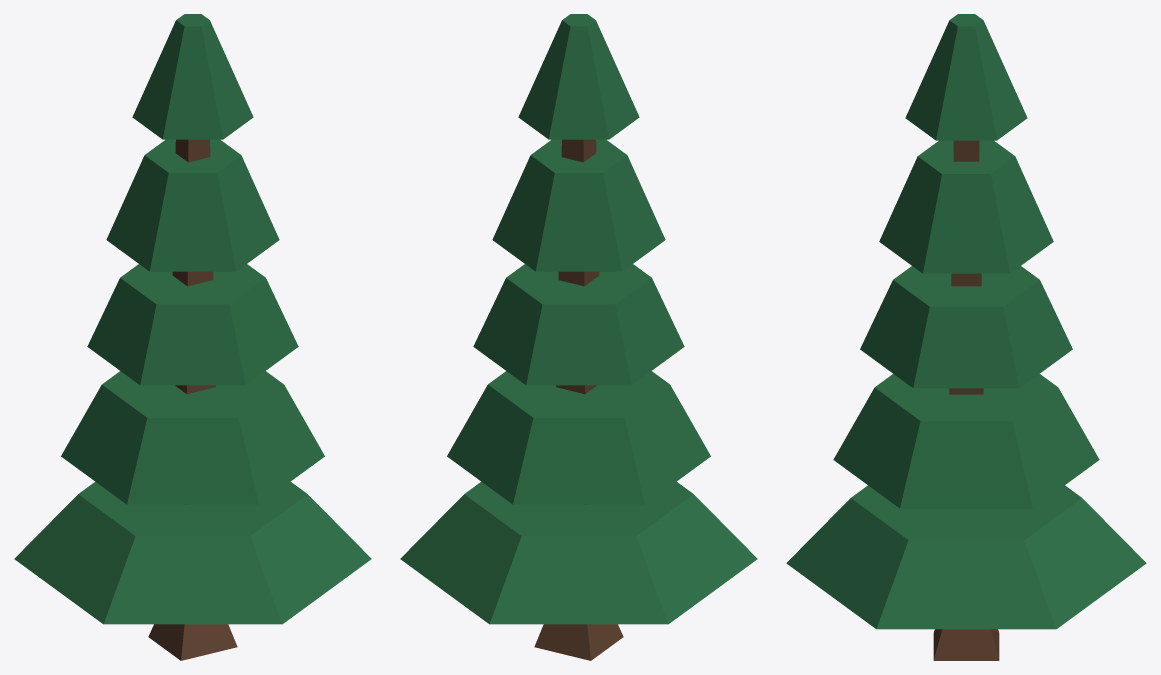
The model's file is tree_pineRoundA.glb.
3 views of the same model, side by side, from view 1: azimuth 30°, elevation 25°; view 2: azimuth 150°, elevation 25°; view 3: azimuth 270°, elevation 25° (orthographic).
Visible parts, largest first — view 1: tree_pineRoundA; view 2: tree_pineRoundA; view 3: tree_pineRoundA.
Boxes of the visible parts, <box> form: tree_pineRoundA: <box>14,14,371,660</box>; tree_pineRoundA: <box>400,14,757,660</box>; tree_pineRoundA: <box>786,14,1146,660</box>.
Bounding box in the file's own units: 0.617 × 1.37 × 0.7125.
